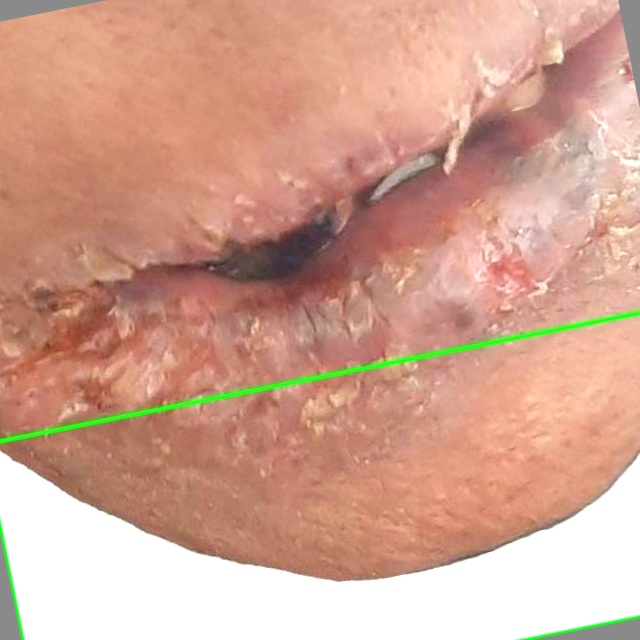Contact Dermatitis: (0, 312, 639, 639)
